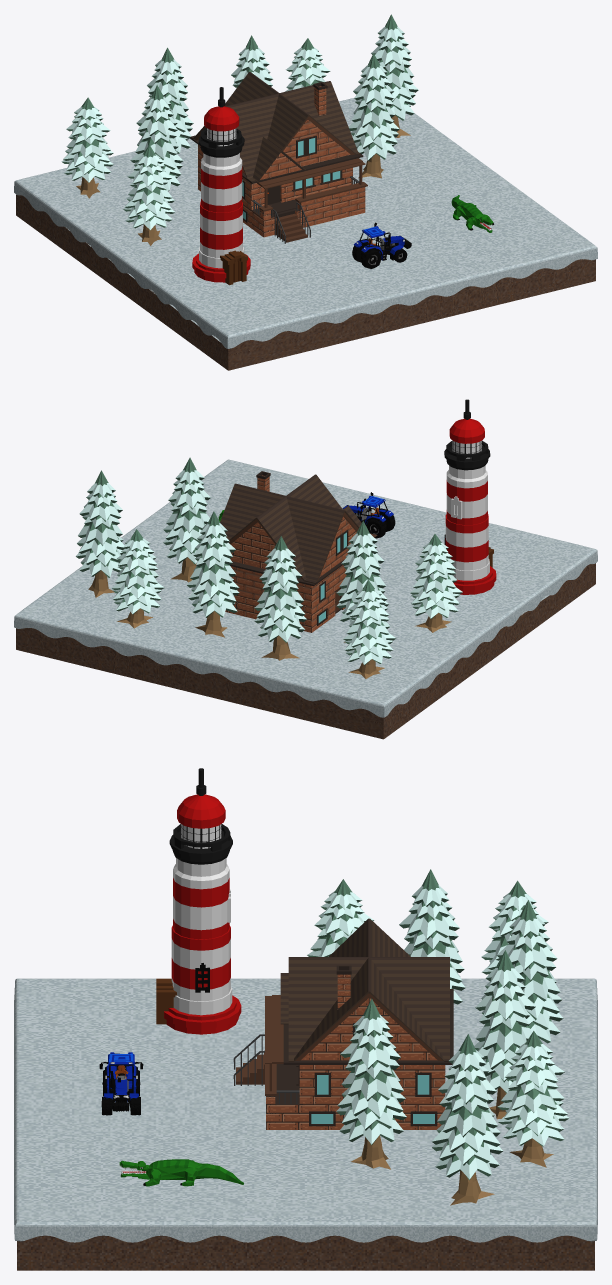
3 views of the same model, one above another, from view 1: azimuth 30°, elevation 25°; view 2: azimuth 150°, elevation 25°; view 3: azimuth 270°, elevation 25° (orthographic). The views are drawn at different scales.
Visible parts, largest first — view 1: Cube.003, Cube.469, OBJRANDOM_LIGHTHOUSE, VEHICLES_TRACTOR, ANIMAL_COCODRILO; view 2: Cube.003, Cube.469, OBJRANDOM_LIGHTHOUSE, VEHICLES_TRACTOR; view 3: Cube.003, Cube.469, OBJRANDOM_LIGHTHOUSE, VEHICLES_TRACTOR, ANIMAL_COCODRILO.
Part boxes in pixels (x1,y1,x2,y2): Cube.003: (14,14,597,370); Cube.469: (189,72,367,243); OBJRANDOM_LIGHTHOUSE: (192,87,250,285); VEHICLES_TRACTOR: (352,222,411,268); ANIMAL_COCODRILO: (451,195,493,232); Cube.003: (14,457,597,739); Cube.469: (220,471,379,632); OBJRANDOM_LIGHTHOUSE: (444,399,496,594); VEHICLES_TRACTOR: (342,492,395,538); Cube.003: (14,869,597,1270); Cube.469: (233,918,453,1129); OBJRANDOM_LIGHTHOUSE: (156,768,241,1034); VEHICLES_TRACTOR: (99,1052,143,1115); ANIMAL_COCODRILO: (119,1159,243,1186).
Bounding box in the file's own units: 4040 × 2350 × 4040.
Materials: 33 (4 with a texture image).
